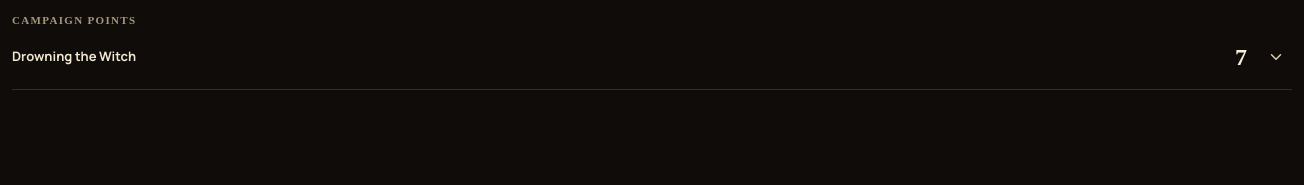
the warband's campaign points › is read only for a viewer, who still reaches the plot and the track
Check: the text "Drowning the Witch" is shown, box [12,47,136,66]
Check: the text "7" is shown, box [1235,44,1247,70]
Click the button named "Show the plot" at [1276, 56], box [1260,40,1292,72]
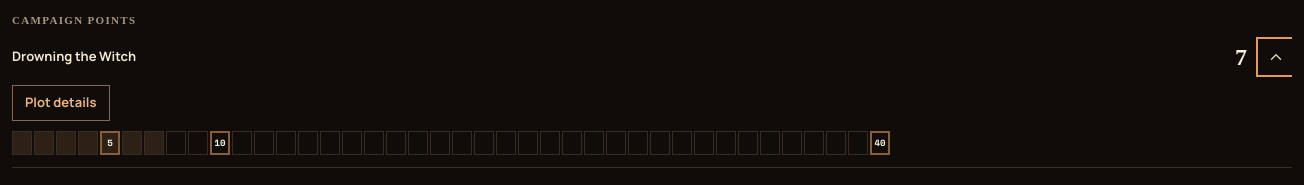
Check: the picture is shown, box [12,130,890,154]
Check: the button "Plot details" is shown, box [12,84,110,120]
